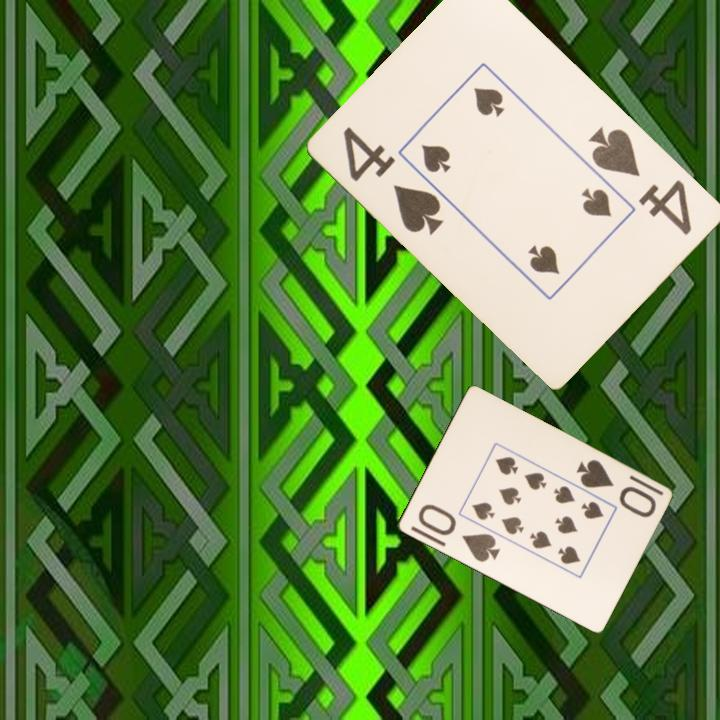10s: (414, 500, 503, 565), (572, 456, 659, 521)
4s: (585, 123, 696, 238), (340, 123, 448, 238)
